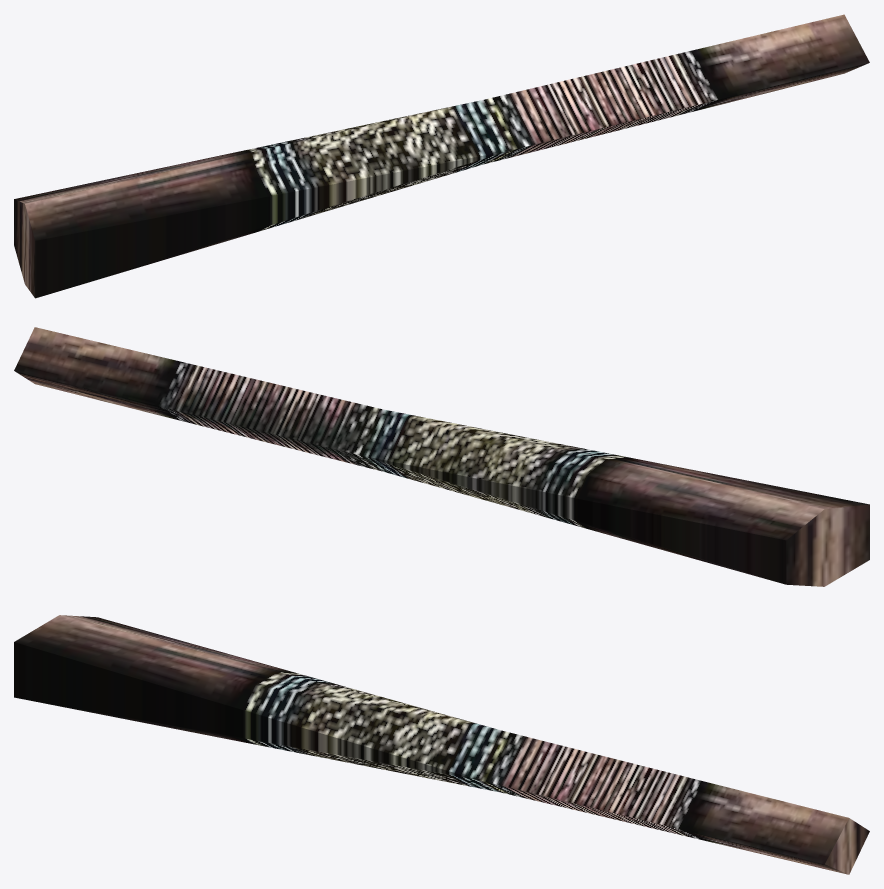
File: WZMACNIANA_REKOJESC.glb
3 renders of one model, top to bottom at view 1: azimuth 30°, elevation 25°; view 2: azimuth 150°, elevation 25°; view 3: azimuth 330°, elevation 25°, orthographic. The views are drawn at different scales.
Parts seen in each view (by area): view 1: WZMACNIANA_REKOJESC; view 2: WZMACNIANA_REKOJESC; view 3: WZMACNIANA_REKOJESC.
Part boxes in pixels (box(x1,y1,x2,y2)): WZMACNIANA_REKOJESC: box(14, 14, 869, 298); WZMACNIANA_REKOJESC: box(14, 327, 869, 586); WZMACNIANA_REKOJESC: box(14, 615, 869, 874).
Bounding box in the file's own units: 0.3735 × 0.0343 × 0.0417.
1 material, 1 textured.
